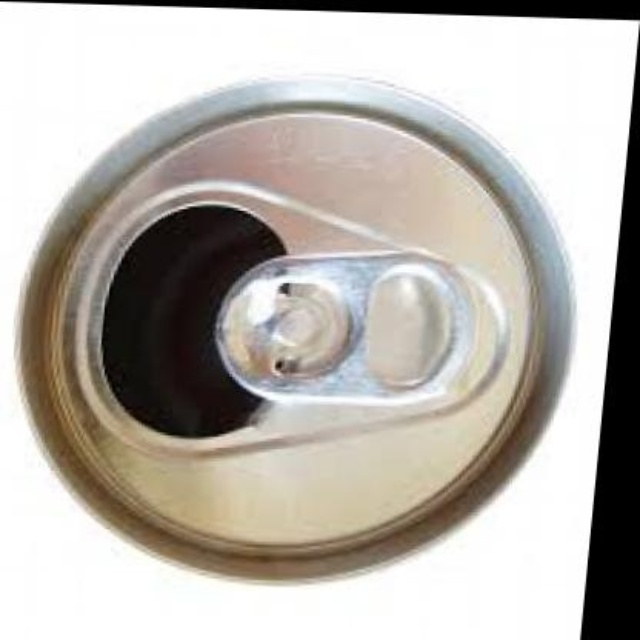trash: (18, 77, 571, 577)
